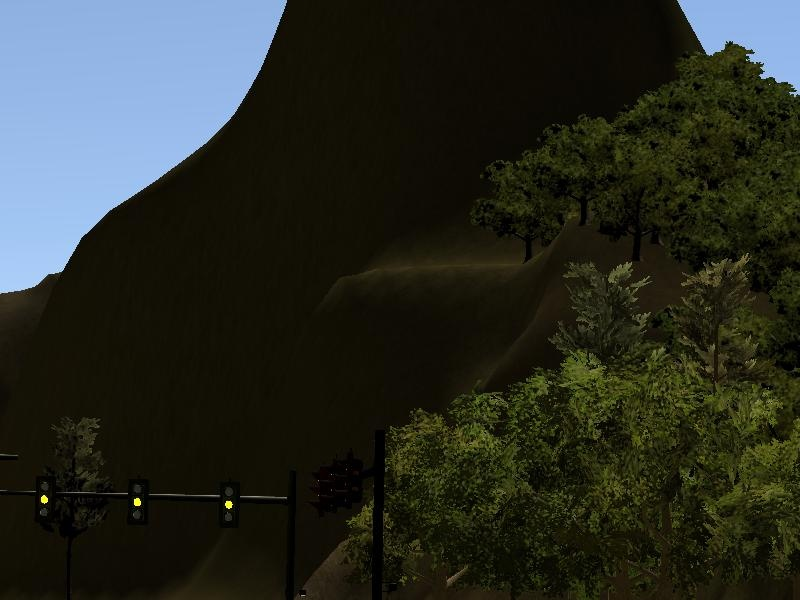yellow: (33, 476, 55, 520), (125, 479, 147, 523), (217, 481, 239, 525)
